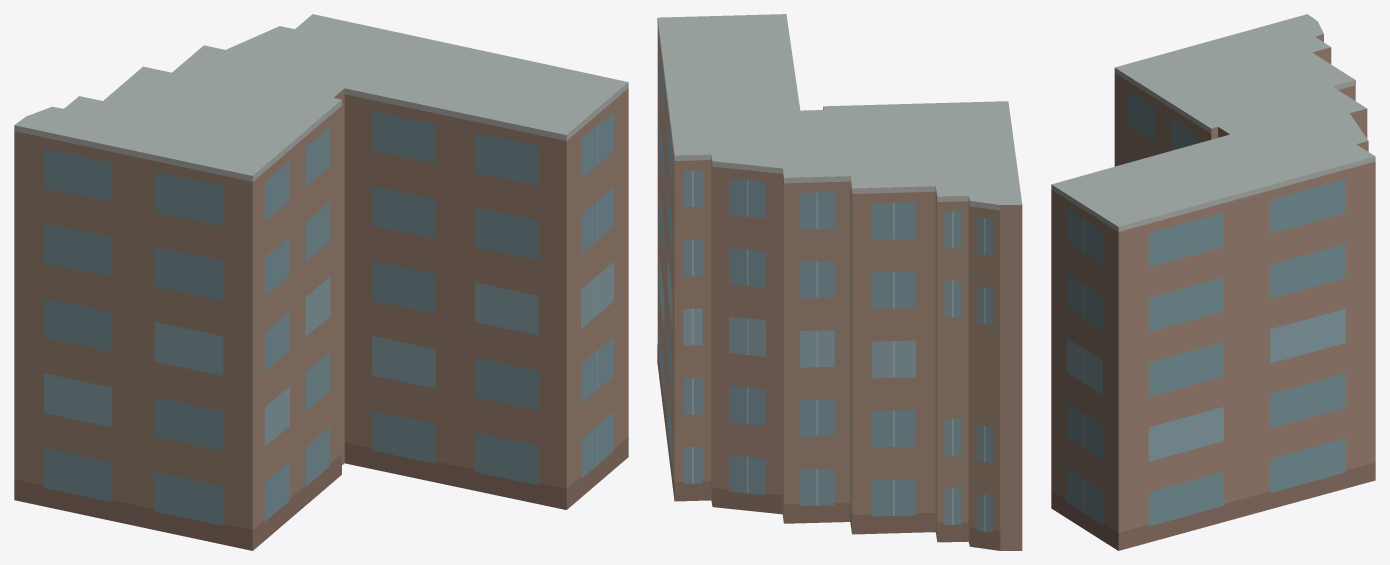
Rendered from survey-upis-33021573.glb.
3 views of the same model, side by side, from view 1: azimuth 30°, elevation 25°; view 2: azimuth 150°, elevation 25°; view 3: azimuth 270°, elevation 25° (orthographic). The views are drawn at different scales.
Visible parts, largest first — view 1: survey-upis-33021573.tmp; view 2: survey-upis-33021573.tmp; view 3: survey-upis-33021573.tmp.
Boxes of the visible parts, bbox=[...] form: survey-upis-33021573.tmp: bbox=[14, 14, 628, 550]; survey-upis-33021573.tmp: bbox=[657, 14, 1022, 550]; survey-upis-33021573.tmp: bbox=[1051, 14, 1375, 550].
Size of the model in its own units: 21.85 by 15.5 by 14.07.
